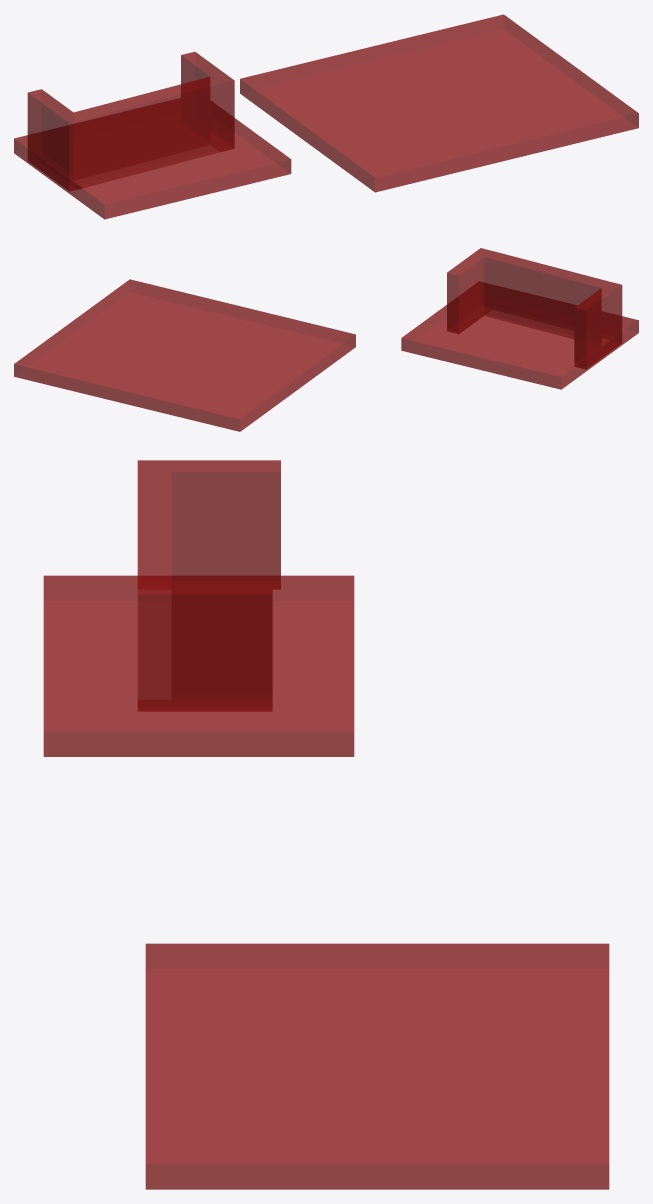
Rendered from _death.obj.
3 renders of one model, top to bottom at view 1: azimuth 30°, elevation 25°; view 2: azimuth 150°, elevation 25°; view 3: azimuth 270°, elevation 25°, orthographic. The views are drawn at different scales.
Size of the model in its own units: 324 by 80.49 by 162.
